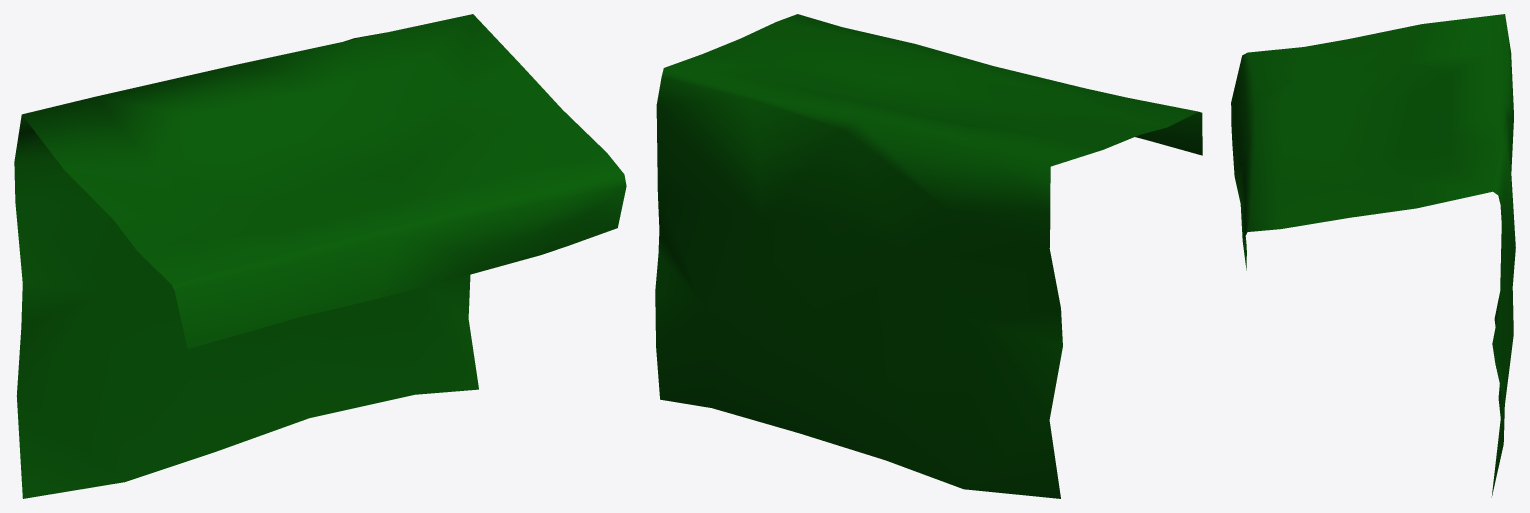
Rendered from Structure01a.FBX.
3 renders of one model, left to right at view 1: azimuth 30°, elevation 25°; view 2: azimuth 150°, elevation 25°; view 3: azimuth 270°, elevation 25°, orthographic. The views are drawn at different scales.
Visible parts, largest first — view 1: SM_structure01a_0; view 2: SM_structure01a_0; view 3: SM_structure01a_0.
Part boxes in pixels (box(x1,y1,x2,y2)): SM_structure01a_0: box(14, 14, 626, 498); SM_structure01a_0: box(655, 14, 1202, 498); SM_structure01a_0: box(1231, 14, 1515, 497).
Bounding box in the file's own units: 240 × 159 × 195.
